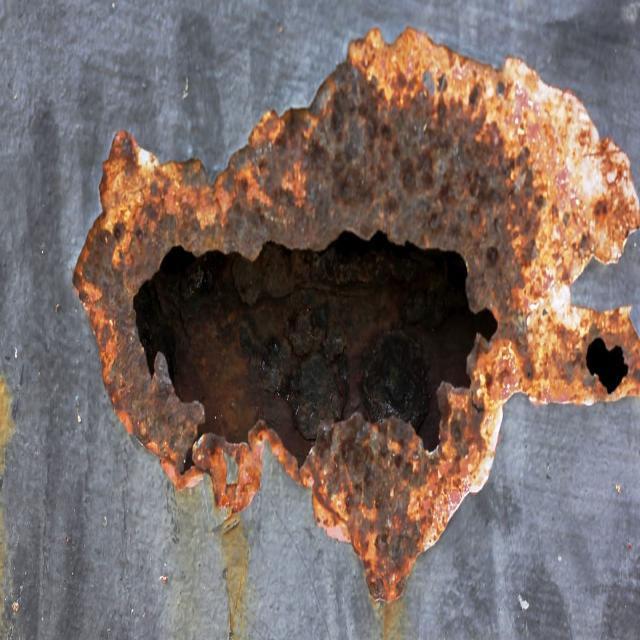corrosion: (62, 21, 640, 580)
